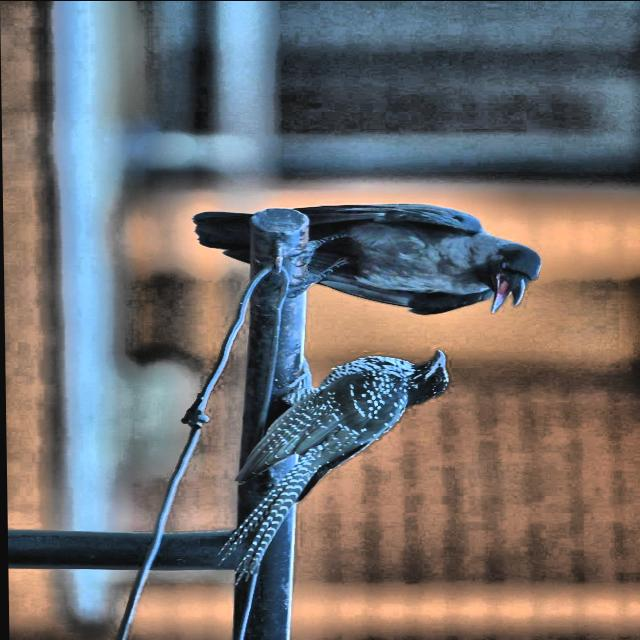crow: (178, 188, 562, 322), (179, 307, 183, 308)
